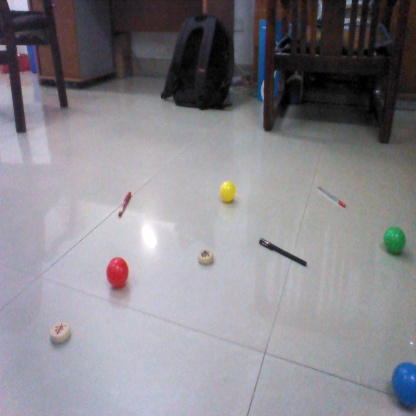ball: (387, 364, 416, 405), (104, 256, 132, 286), (380, 226, 406, 254), (218, 180, 239, 202)
chess: (45, 321, 74, 342), (196, 248, 217, 264)
pen: (258, 239, 310, 267), (314, 188, 347, 208), (118, 188, 134, 215)
